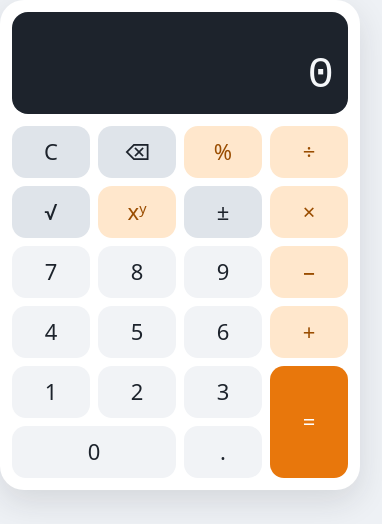
Calculator › shows the message for division_by_zero in the display
Click the button "1" at (51, 392), box left=12, top=366, right=90, bottom=418
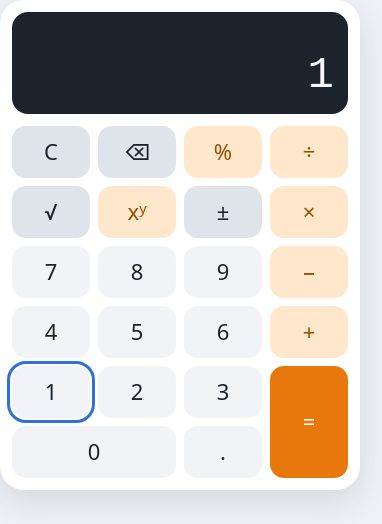
Click the button named "Divide" at (309, 152), box left=270, top=126, right=348, bottom=178
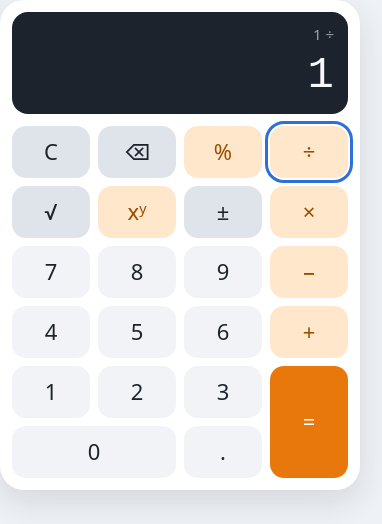
Click the button "2" at (137, 392), box left=98, top=366, right=176, bottom=418
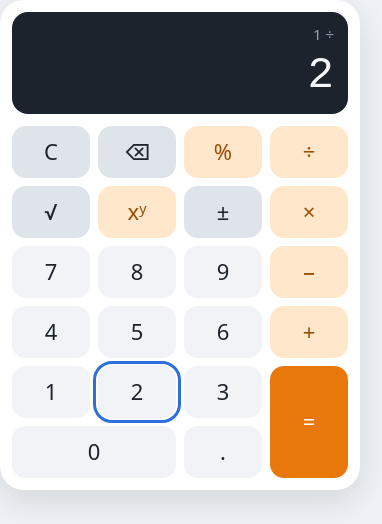
Click the button named "Equals" at (309, 422), box left=270, top=366, right=348, bottom=478
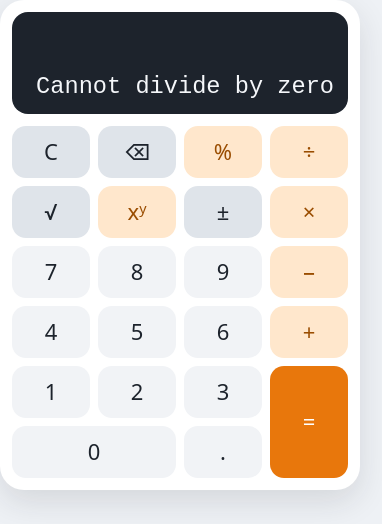
Check: the text "Cannot divide by zero" is shown, box left=36, top=73, right=334, bottom=100
